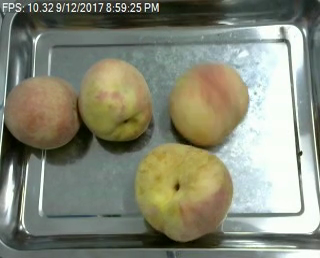Peach: (132, 143, 234, 242), (170, 63, 249, 148), (81, 57, 152, 141), (5, 75, 79, 149)
